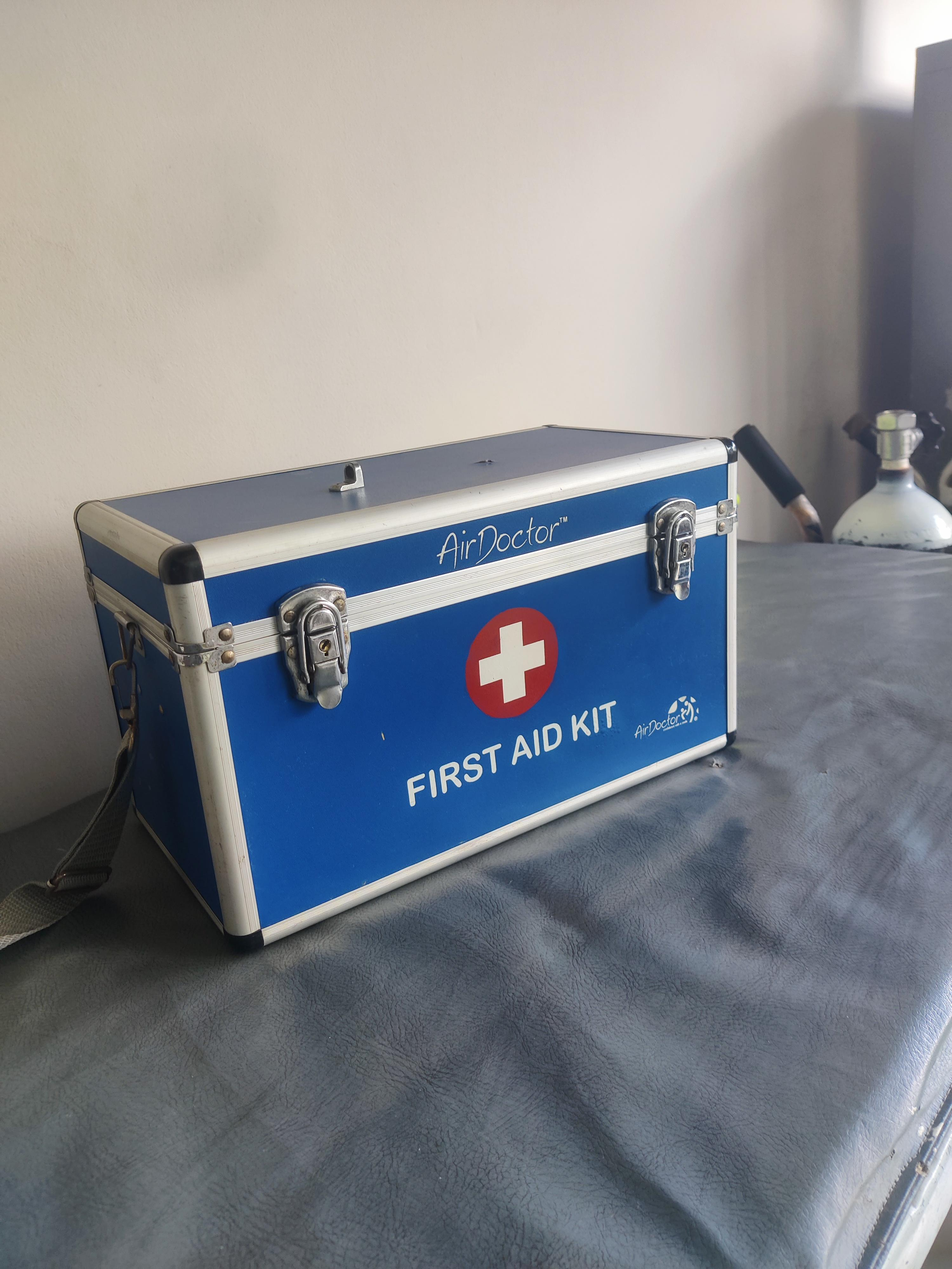FirstAidBox: (49, 401, 815, 983)
